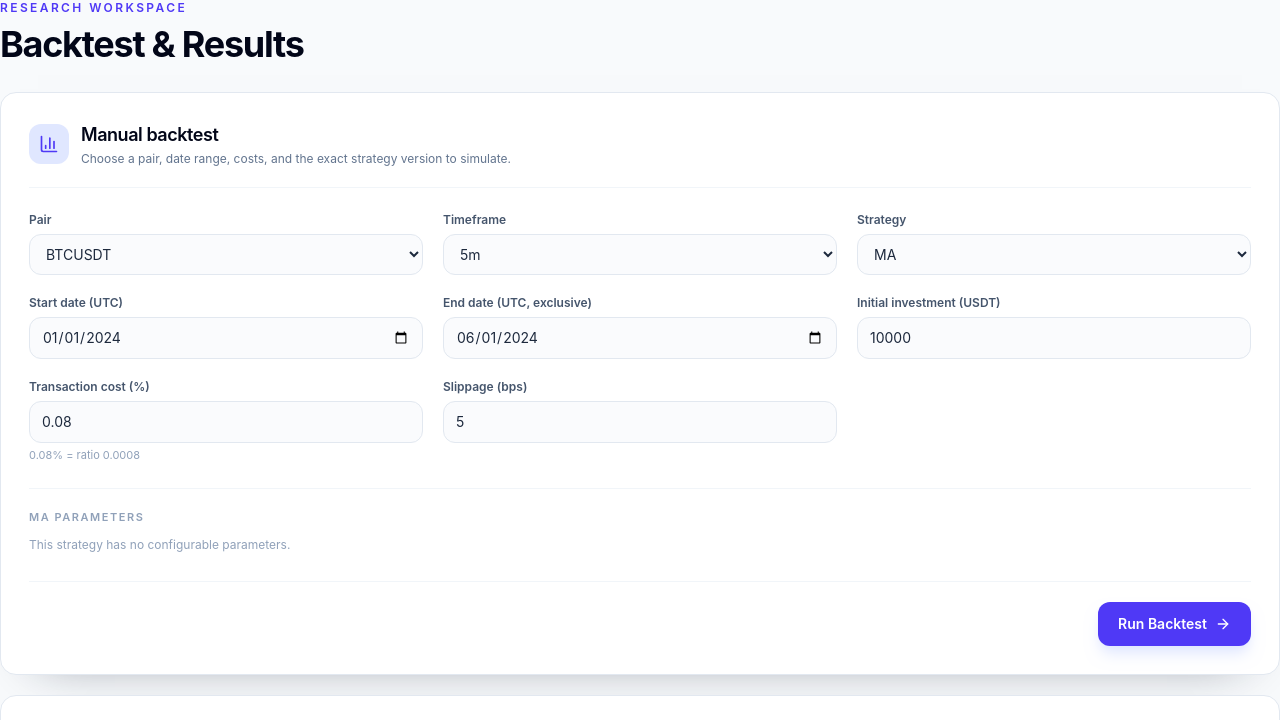
BacktestDashboard › refreshes history and stays on the dashboard after queuing a backtest
Step 1. Click the button "Run Backtest" → (1175, 624), box [1098,602,1251,646]
(page scrolled)
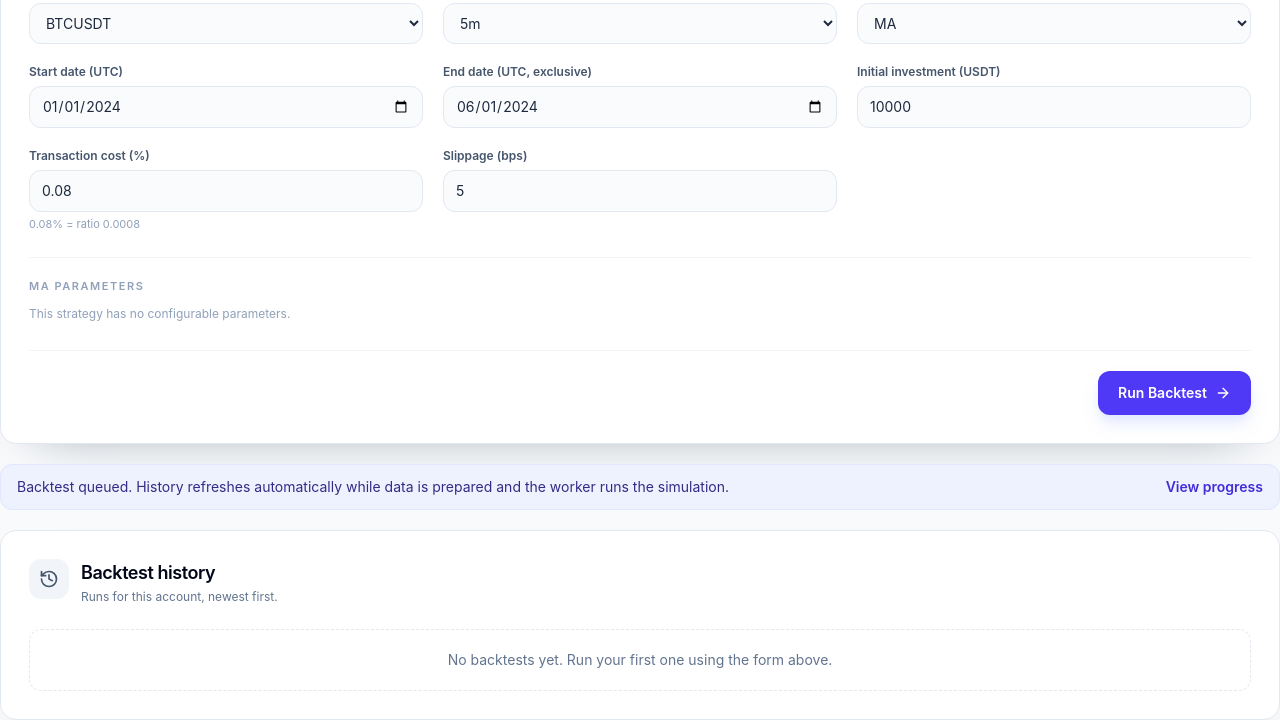
Expected: the button "Run Backtest" is enabled, [1098,371,1251,415]
Expected: the message shows "Backtest queued", [17,478,729,495]
